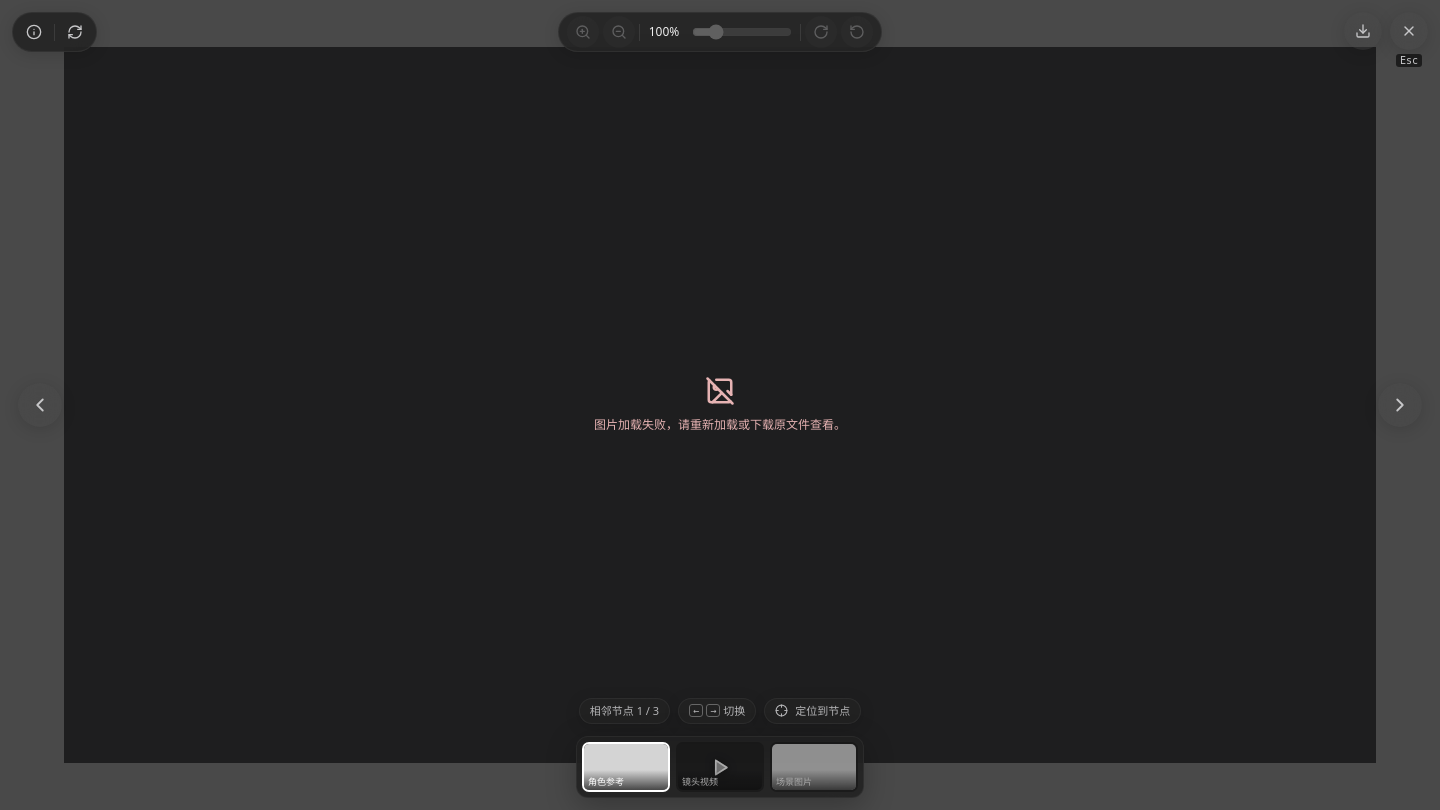
it: image and shared preview controls › shows real image load failures and supports reloading
The image size is (1440, 810).
Click the button named "重新加载" at (75,32), box [59,16,91,48]
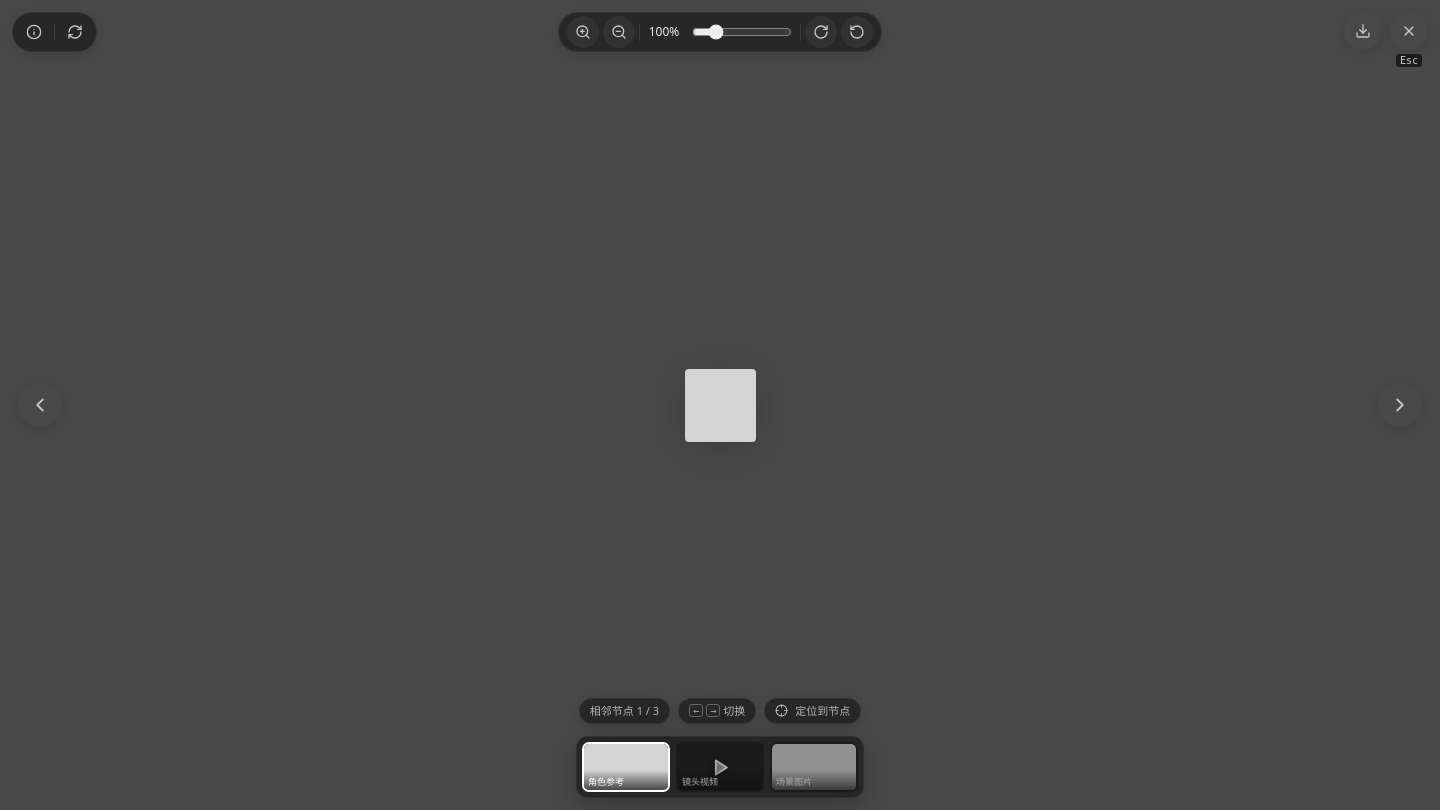
Check: the message "图片加载失败，请重新加载或下载原文件查看。" is gone
